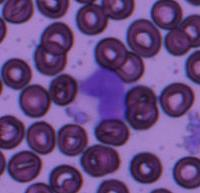M: (79, 66, 127, 122)
